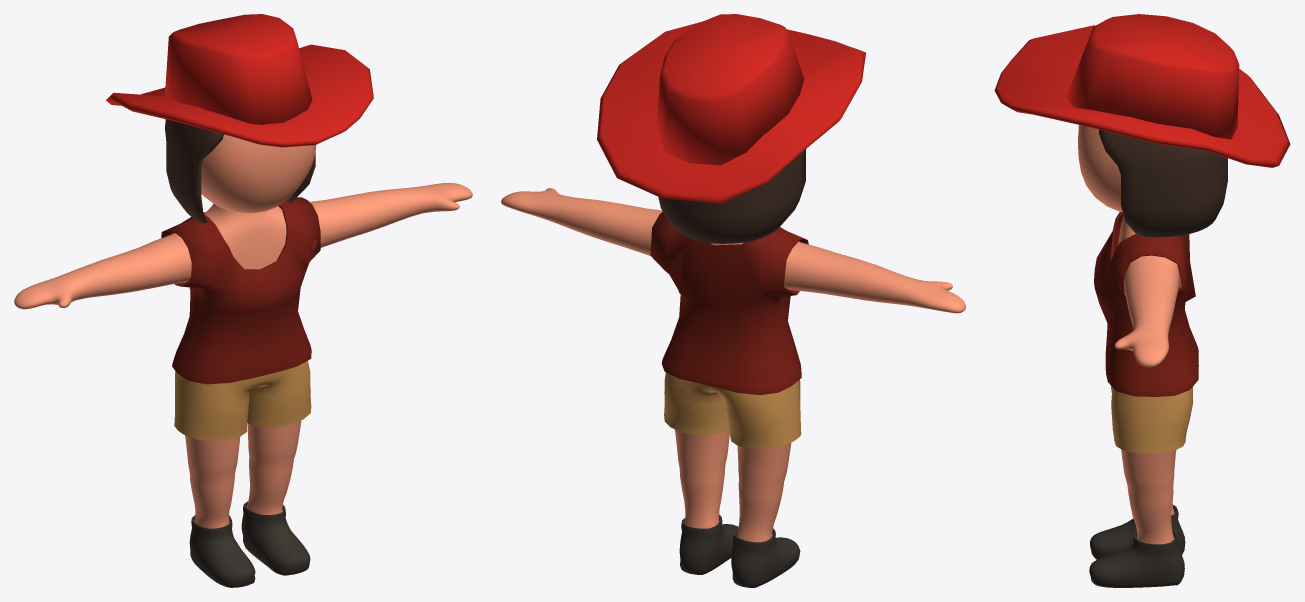
Rendered from CowboyCharacter.fbx.
3 views of the same model, side by side, from view 1: azimuth 30°, elevation 25°; view 2: azimuth 150°, elevation 25°; view 3: azimuth 270°, elevation 25° (orthographic).
Visible parts, largest first — view 1: Character, Hat; view 2: Character, Hat; view 3: Character, Hat.
Boxes of the visible parts, x1,y1,x2,y2 form: Character: (14,119,472,587); Hat: (106,14,373,147); Character: (501,149,965,587); Hat: (597,14,865,203); Character: (1078,125,1227,587); Hat: (994,14,1290,167).
Size of the model in its own units: 2.05 by 2.28 by 1.14.
